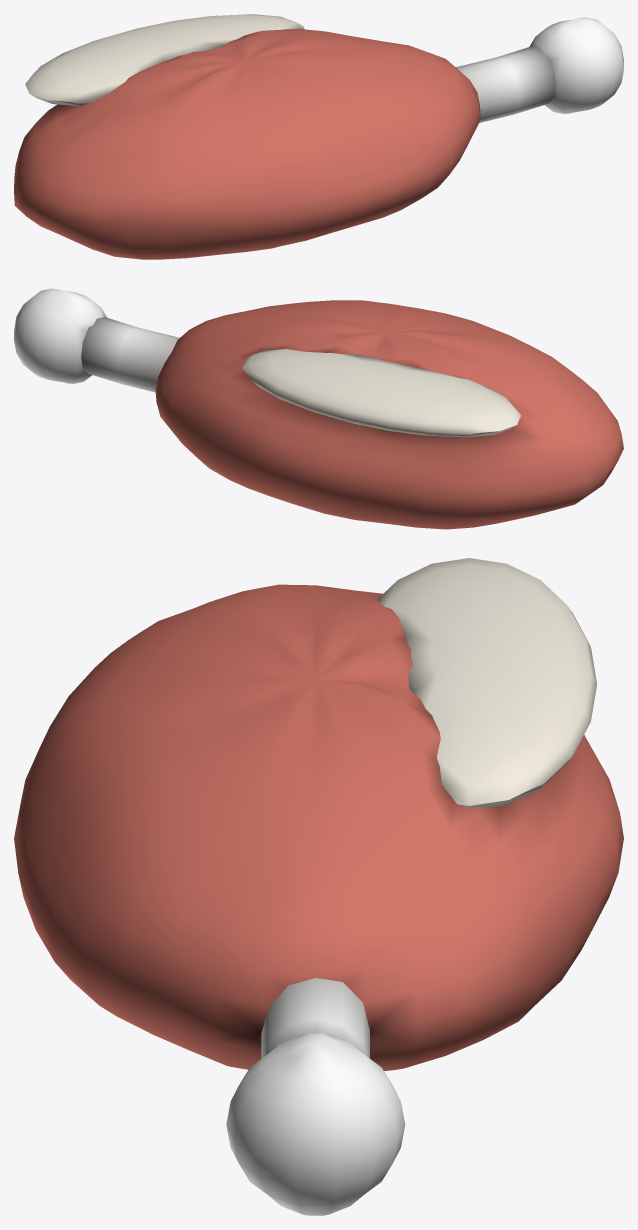
The model's file is food_venison.glb.
3 views of the same model, one above another, from view 1: azimuth 30°, elevation 25°; view 2: azimuth 150°, elevation 25°; view 3: azimuth 270°, elevation 25° (orthographic). The views are drawn at different scales.
Visible parts, largest first — view 1: PART; view 2: PART; view 3: PART.
Part boxes in pixels (box(x1,y1,x2,y2)): PART: box(14, 14, 623, 259); PART: box(14, 288, 623, 529); PART: box(14, 558, 623, 1215).
Bounding box in the file's own units: 0.2809 × 0.0741 × 0.1374.
